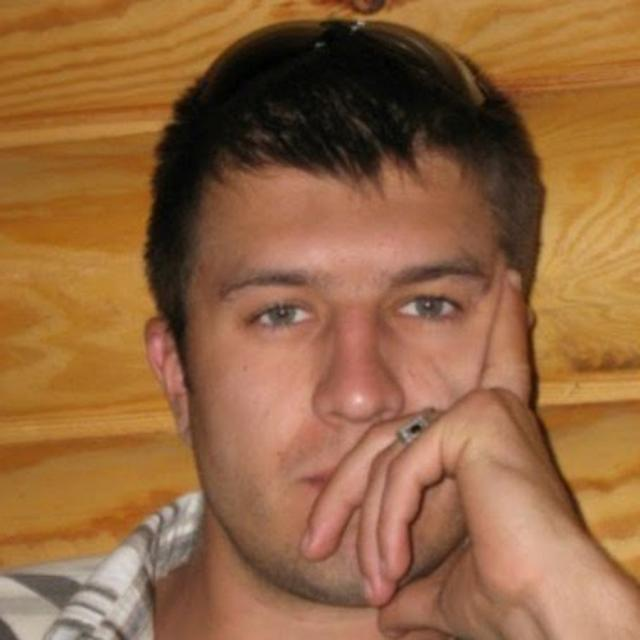earlobe: (169, 391, 194, 440)
eye: (389, 290, 464, 322), (246, 300, 318, 332)
nose: (317, 410, 401, 445)
wholeear: (144, 316, 195, 441)
